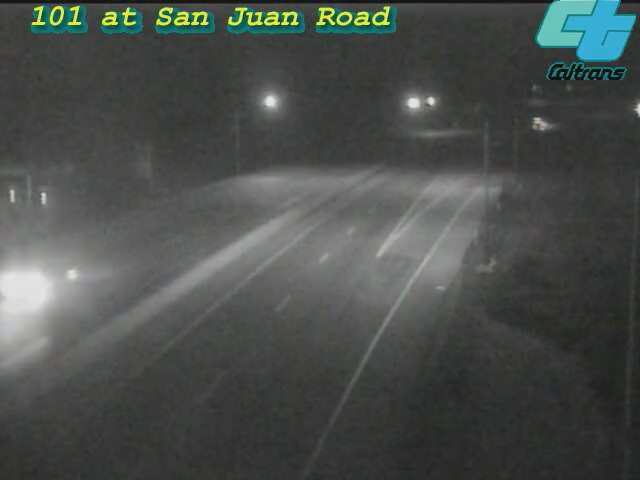vehicle: (1, 246, 74, 326), (522, 98, 572, 148)
